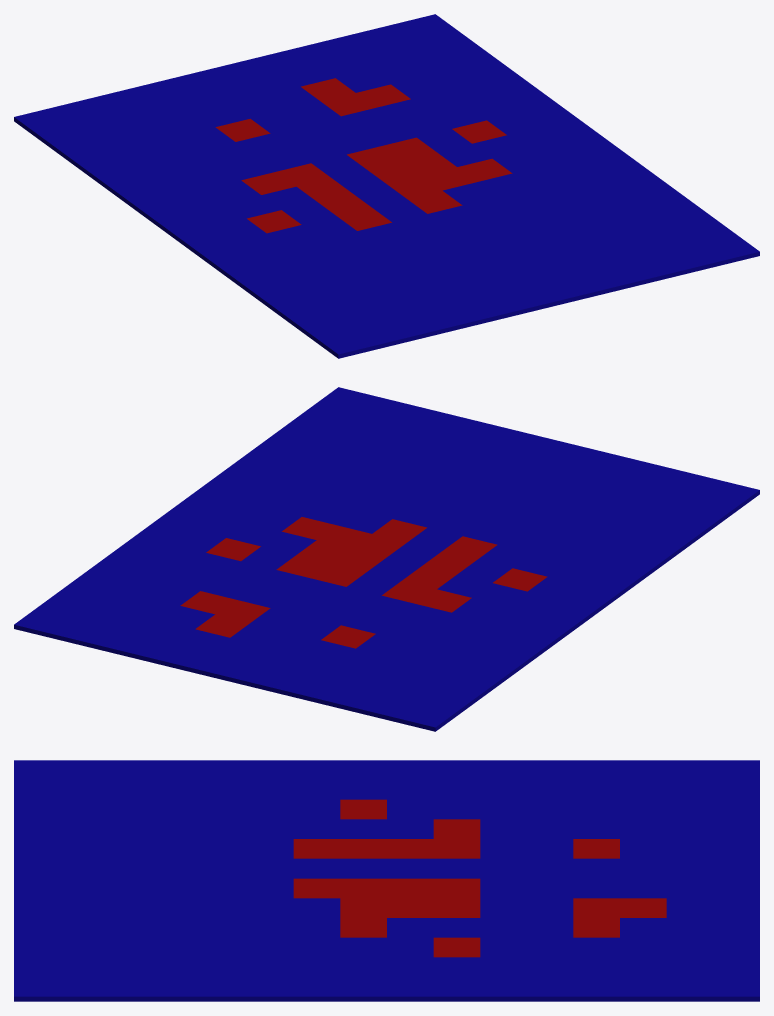
3 renders of one model, top to bottom at view 1: azimuth 30°, elevation 25°; view 2: azimuth 150°, elevation 25°; view 3: azimuth 270°, elevation 25°, orthographic. The views are drawn at different scales.
Parts seen in each view (by area): view 1: Box109, Box143, Box124, Box117, Box169, Box121, Box137, Box154, Box164, Box132, Box157, Box100 (+180 smaller); view 2: Box094, Box058, Box003, Box004, Box086, Box012, Box054, Box090, Box053, Box013, Box062, Box085 (+180 smaller); view 3: Box014, Box033, Box130, Box185, Box013, Box016, Box019, Box030, Box031, Box035, Box113, Box116 (+180 smaller).
Part boxes in pixels (x1,y1,x2,y2): Box109: (318,331,373,358); Box143: (494,288,549,315); Box124: (599,262,654,290); Box117: (634,254,689,281); Box169: (389,314,443,341); Box121: (670,245,724,272); Box137: (529,279,584,307); Box154: (353,322,408,349); Box164: (564,271,619,298); Box132: (705,237,759,264); Box157: (459,297,513,324); Box100: (424,305,478,332); Box094: (400,704,455,731); Box058: (224,661,279,688); Box003: (119,635,174,663); Box004: (84,627,139,654); Box086: (330,687,384,714); Box012: (49,618,103,645); Box054: (189,652,244,680); Box090: (365,695,420,722); Box053: (154,644,209,671); Box013: (14,610,68,637); Box062: (260,670,314,697); Box085: (295,678,349,705); Box014: (666,977,713,1001); Box033: (433,977,480,1001); Box130: (60,977,107,1001); Box185: (293,977,340,1001); Box013: (713,977,759,1001); Box016: (620,977,666,1001); Box019: (573,977,619,1001); Box030: (527,977,573,1001); Box031: (480,977,526,1001); Box035: (387,977,433,1001); Box113: (247,977,293,1001); Box116: (200,977,246,1001).
Bounding box in the file's own units: 9600 × 94.16 × 12800.
